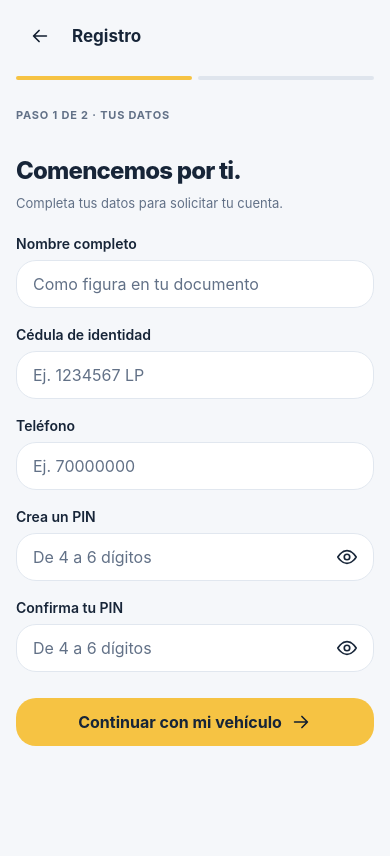
Scenario: el paso 1 valida los datos personales y no avanza cuando faltan
This screenshot has width=390, height=856.
Click the button "Continuar con mi vehículo": (195, 722) [16,698,374,746]
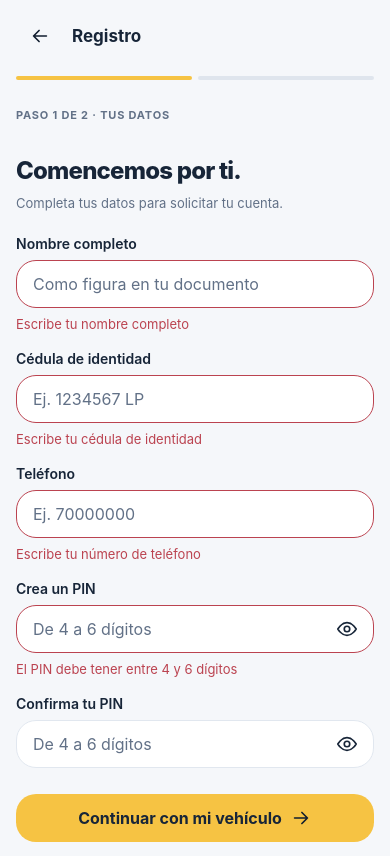
Check: the text "Escribe tu nombre completo" is shown, box [16,316,189,332]
Check: the text "Escribe tu número de teléfono" is shown, box [16,546,201,562]
Check: the text "El PIN debe tener entre 4 y 6 dígitos" is shown, box [16,661,237,677]
